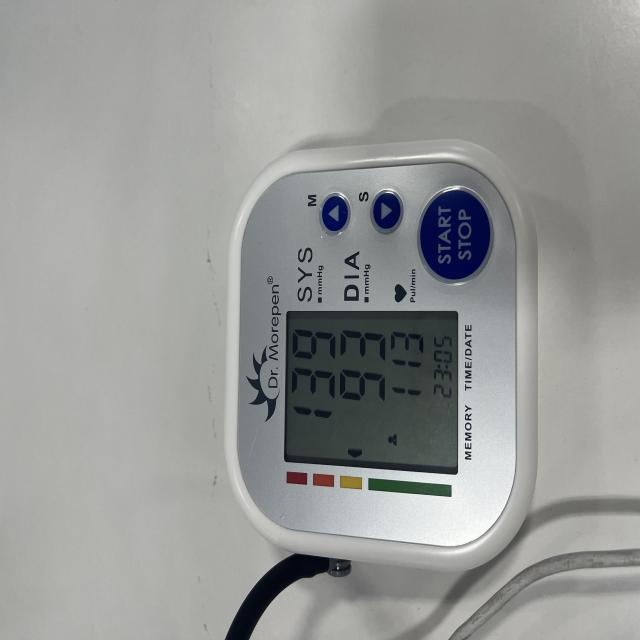bp: (221, 102, 543, 575)
